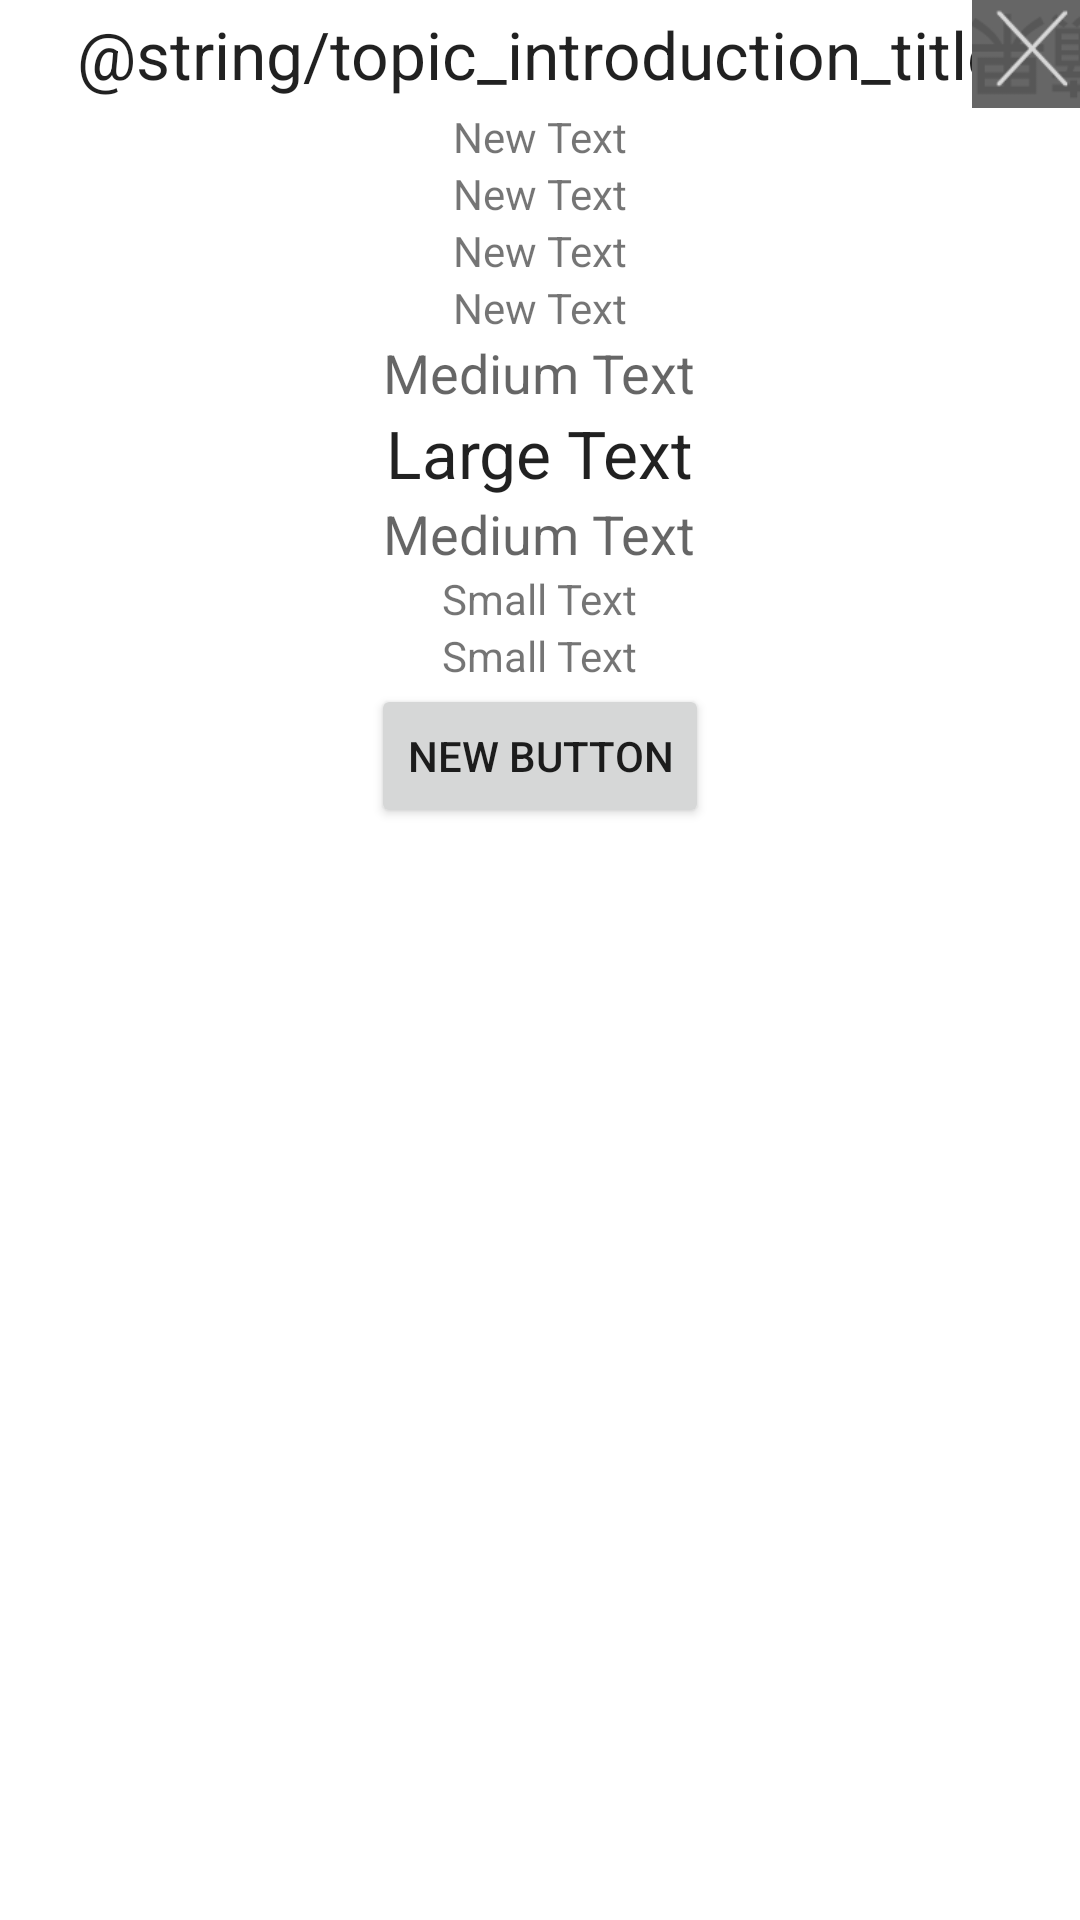

Icon click points for this 1080×1920 phone screenshot, format [x,y]:
close: [1026,54]
